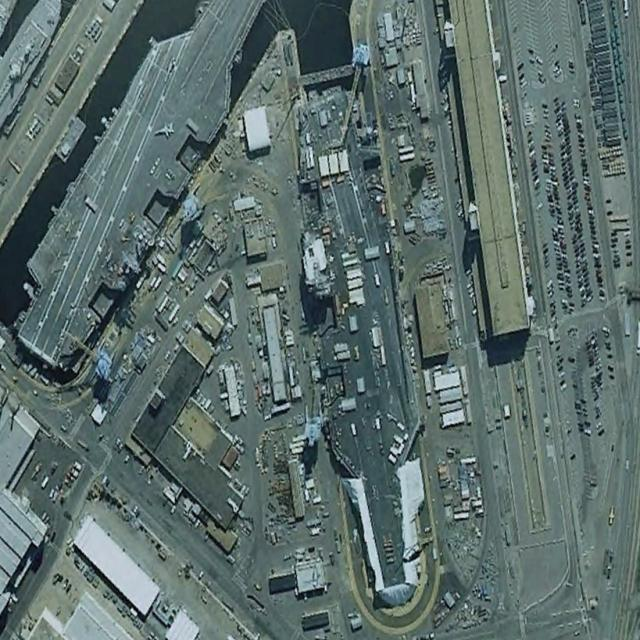Aircraft Carrier: (2, 1, 284, 365), (277, 57, 441, 597)
